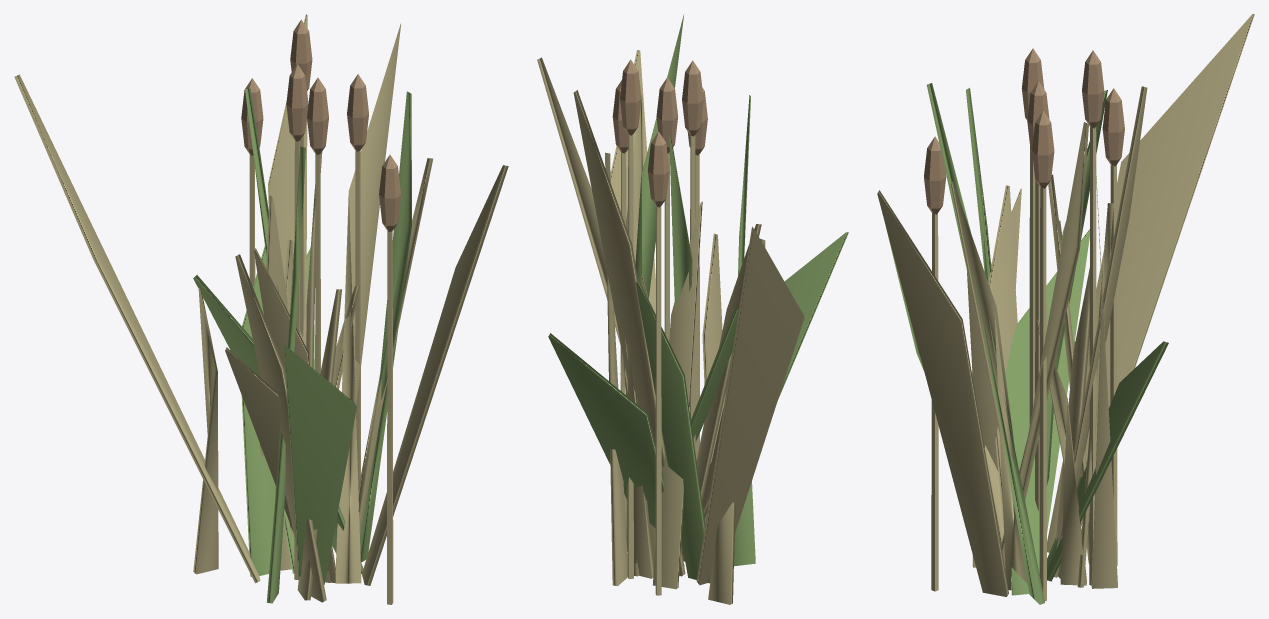
Rendered from grass_reeds.glb.
3 views of the same model, side by side, from view 1: azimuth 30°, elevation 25°; view 2: azimuth 150°, elevation 25°; view 3: azimuth 270°, elevation 25° (orthographic). The views are drawn at different scales.
Parts seen in each view (by area): view 1: grass_reeds; view 2: grass_reeds; view 3: grass_reeds.
Part boxes in pixels (x1,y1,x2,y2): grass_reeds: [14, 14, 508, 604]; grass_reeds: [537, 15, 848, 604]; grass_reeds: [877, 14, 1254, 604].
Bounding box in the file's own units: 0.9591 × 1.58 × 1.01.
